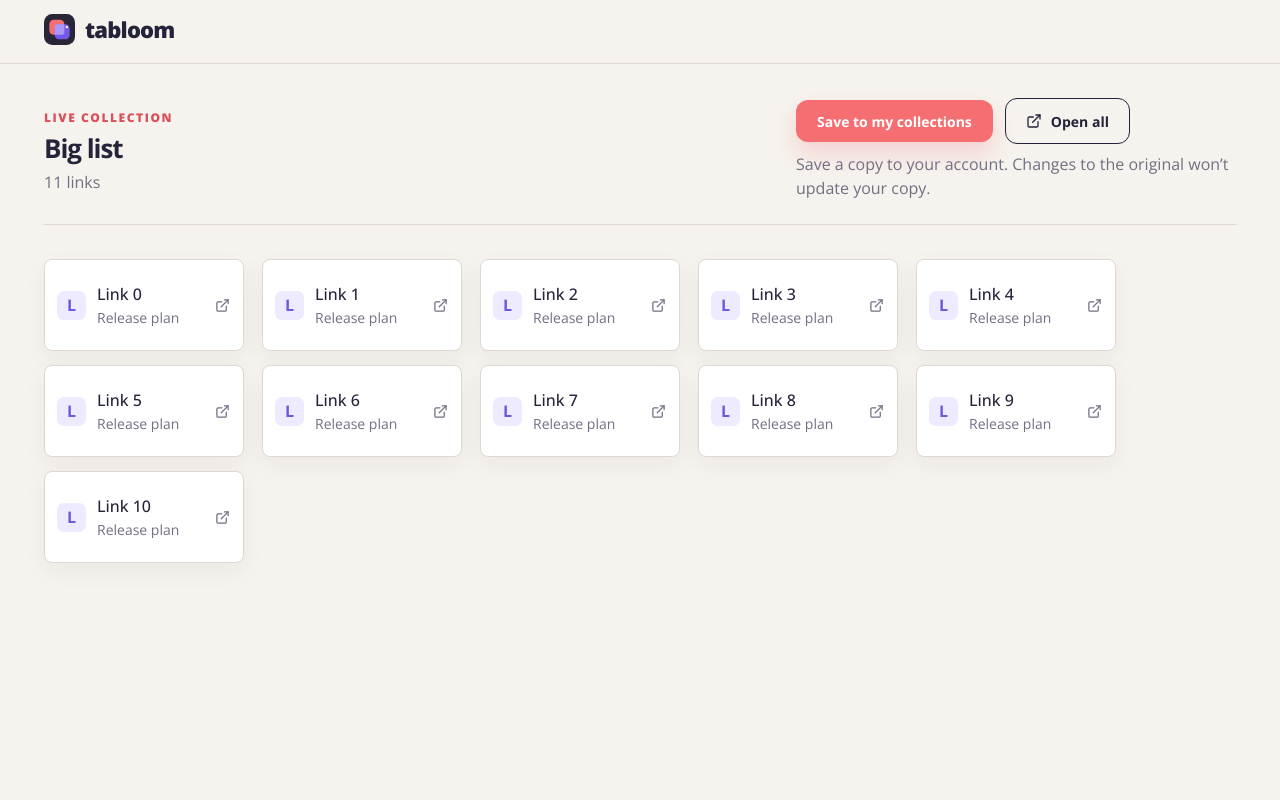
Test case: SharedCollectionView › confirms unusually large collections and supports cancellation
Click the button "Open all".
click(1067, 121)  # box [1005, 98, 1130, 144]
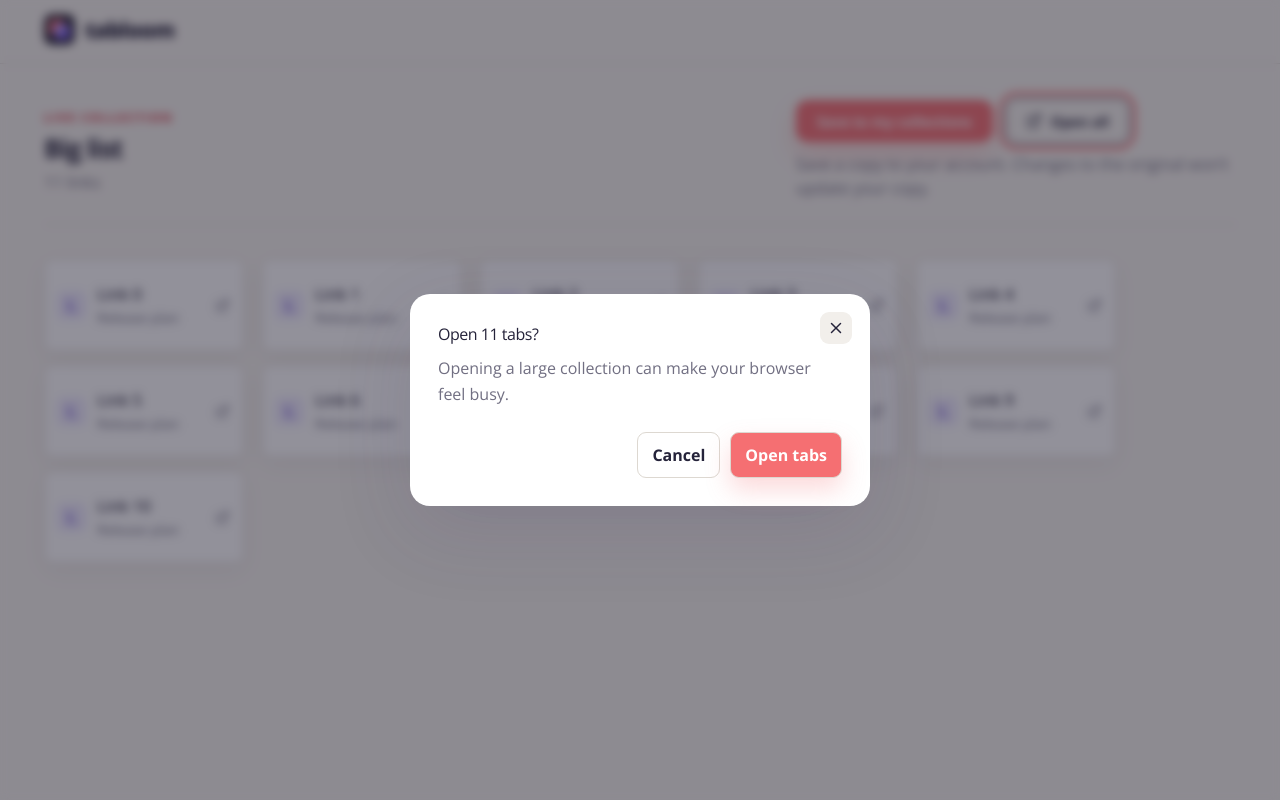
Check: the dialog "Open 11 tabs?" is shown, box [410, 294, 870, 506]
Click the button "Cancel".
click(679, 455)  # box [637, 432, 720, 478]
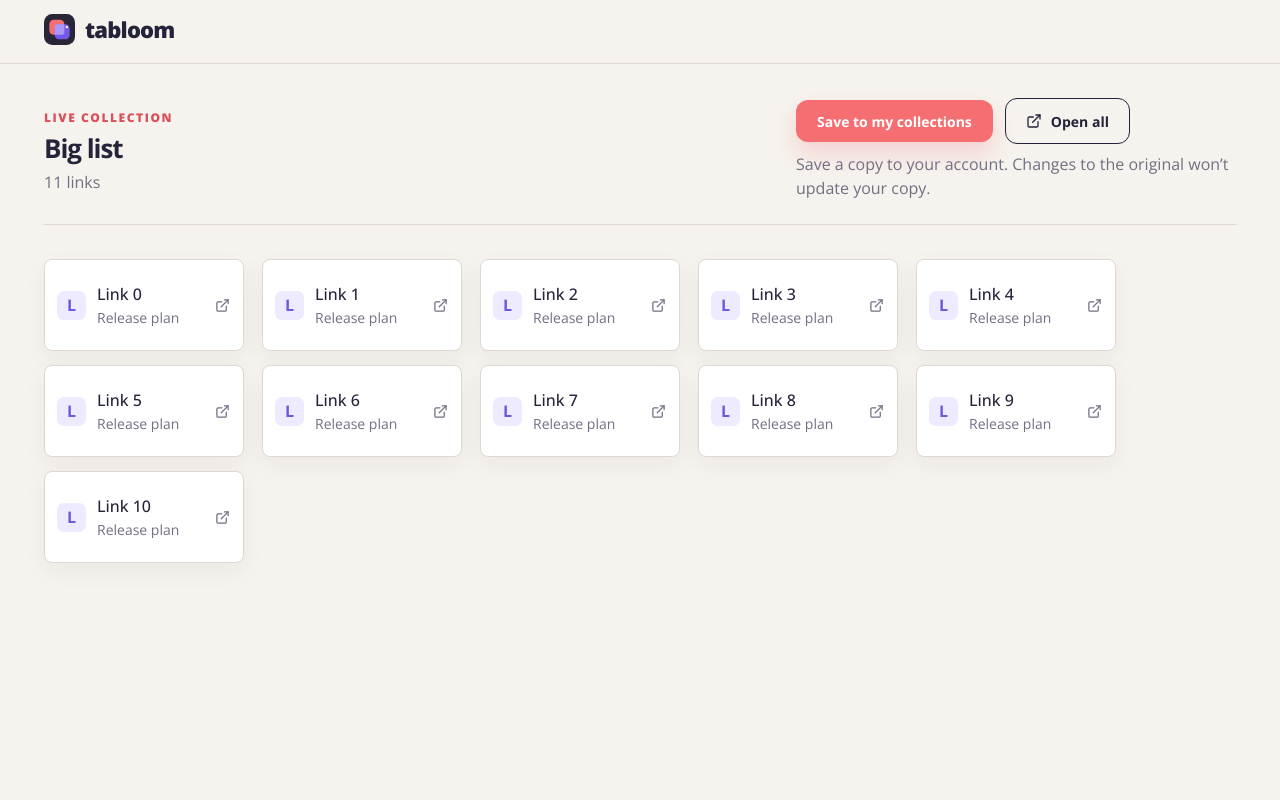
Check: the heading "Open 11 tabs?" is gone
